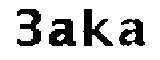3: (11, 5, 44, 48)
a: (47, 15, 77, 51), (117, 17, 149, 49)
k: (83, 5, 115, 52)
